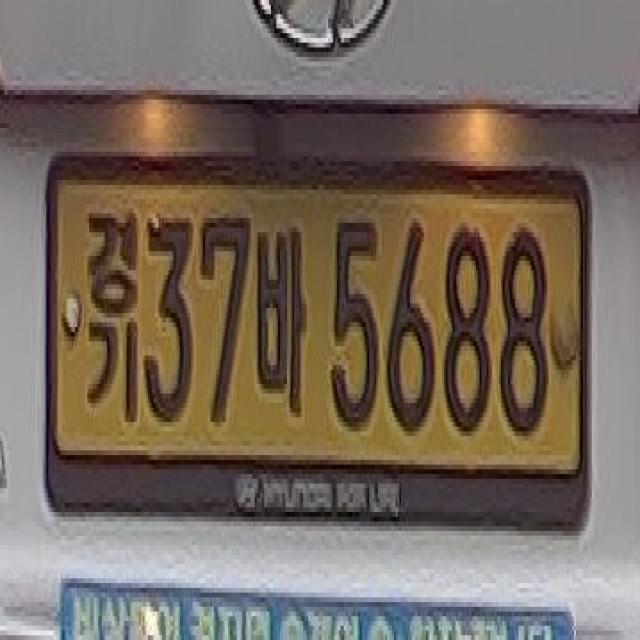plat: (44, 150, 591, 529)
